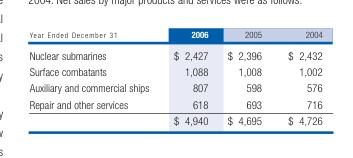table: (28, 28, 321, 126)
table column: (28, 28, 160, 126), (160, 28, 217, 126), (217, 28, 274, 126), (274, 28, 321, 126)
table column header: (28, 28, 321, 43)
table row: (28, 43, 321, 62), (28, 62, 321, 79), (28, 95, 321, 112), (28, 79, 321, 95), (28, 28, 321, 43), (28, 112, 321, 126)
